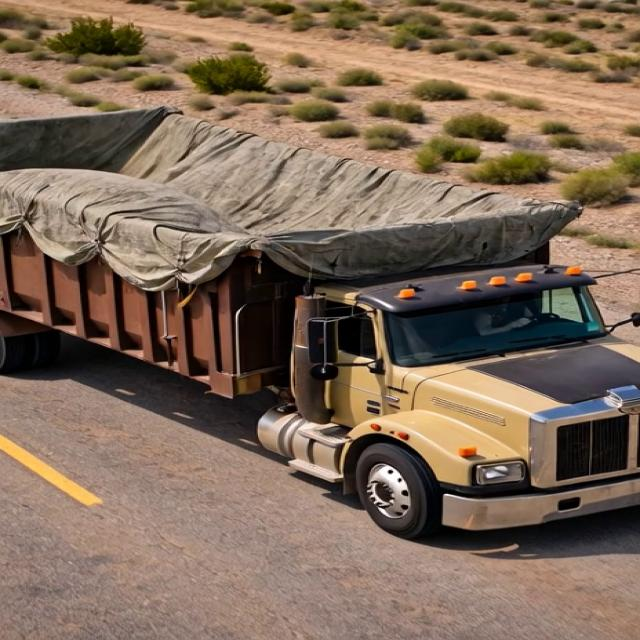trailer: (9, 105, 580, 267)
truck: (0, 84, 631, 602)
